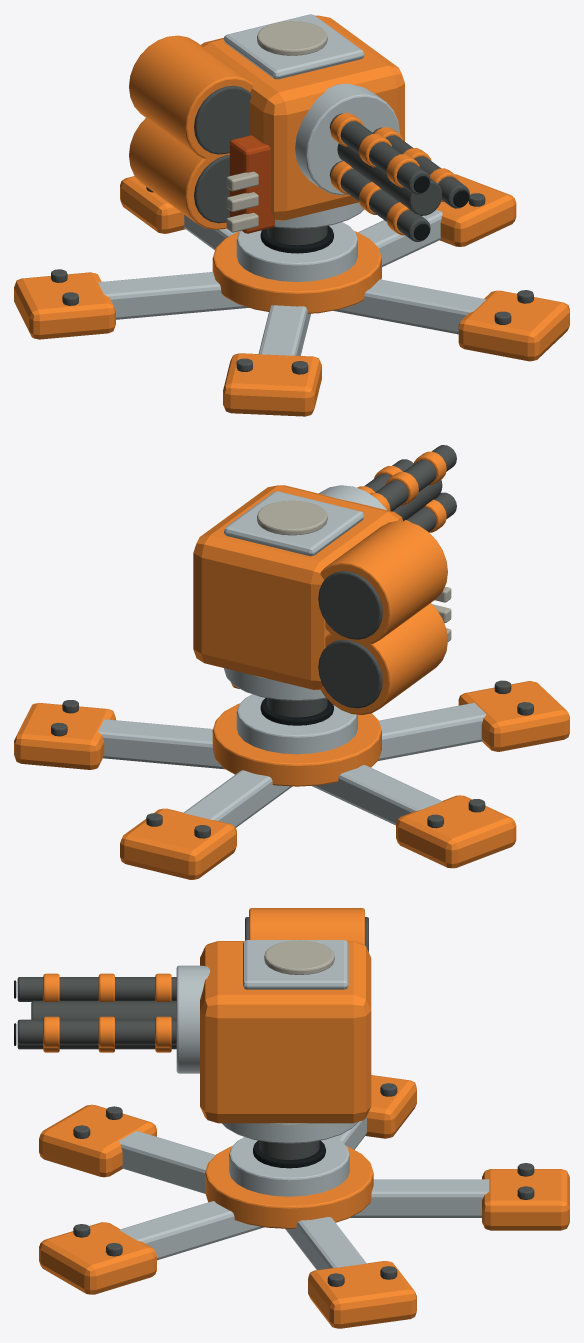
The model's file is sentry.glb.
The picture shows the model from 3 angles, top to bottom: view 1: azimuth 30°, elevation 25°; view 2: azimuth 150°, elevation 25°; view 3: azimuth 270°, elevation 25°; orthographic projection.
Parts seen in each view (by area): view 1: Orange receiver, Ammo drum.001, Base flange, Team foot.002, Team foot.004, Team foot.003, Gun collar, Ammo drum, Outrigger.004, Outrigger.002, Bearing, Top silver panel (+18 smaller); view 2: Orange receiver, Ammo drum.001, Base flange, Team foot.004, Team foot, Ammo drum, Team foot.001, Team foot.003, Outrigger.001, Bearing, Outrigger.003, Outrigger.004 (+12 smaller); view 3: Orange receiver, Base flange, Team foot.002, Team foot.001, Team foot, Team foot.003, Outrigger, Bearing, Outrigger.002, Ammo drum.001, Outrigger.003, Top silver panel (+14 smaller).
Boxes of the visible parts, bbox=[...] form: Orange receiver: bbox=[201, 15, 404, 220]; Ammo drum.001: bbox=[129, 35, 254, 159]; Base flange: bbox=[212, 231, 381, 313]; Team foot.002: bbox=[458, 290, 569, 361]; Team foot.004: bbox=[14, 272, 115, 339]; Team foot.003: bbox=[223, 353, 321, 416]; Gun collar: bbox=[295, 83, 399, 195]; Ammo drum: bbox=[129, 118, 229, 229]; Outrigger.004: bbox=[98, 272, 249, 319]; Outrigger.002: bbox=[333, 279, 485, 334]; Bearing: bbox=[236, 222, 357, 281]; Top silver panel: bbox=[224, 14, 364, 79]; Orange receiver: bbox=[193, 485, 402, 689]; Ammo drum.001: bbox=[320, 520, 447, 644]; Base flange: bbox=[212, 703, 381, 786]; Team foot.004: bbox=[396, 795, 516, 868]; Team foot: bbox=[120, 808, 236, 879]; Ammo drum: bbox=[320, 603, 447, 714]; Team foot.001: bbox=[14, 703, 115, 769]; Team foot.003: bbox=[458, 681, 569, 751]; Outrigger.001: bbox=[98, 719, 224, 769]; Bearing: bbox=[236, 694, 357, 754]; Outrigger.003: bbox=[378, 703, 486, 760]; Outrigger.004: bbox=[312, 765, 442, 825]; Orange receiver: bbox=[200, 941, 371, 1123]; Base flange: bbox=[205, 1146, 373, 1228]; Team foot.002: bbox=[39, 1222, 156, 1294]; Team foot.001: bbox=[308, 1261, 416, 1328]; Team foot: bbox=[482, 1169, 569, 1230]; Team foot.003: bbox=[39, 1104, 156, 1177]; Outrigger: bbox=[350, 1179, 489, 1217]; Bearing: bbox=[229, 1137, 349, 1196]; Outrigger.002: bbox=[119, 1201, 264, 1260]; Ammo drum.001: bbox=[249, 908, 364, 944]; Outrigger.003: bbox=[119, 1131, 215, 1193]; Top silver panel: bbox=[243, 940, 348, 989].
Bounding box in the file's own units: 4.42 × 2.28 × 4.42.
